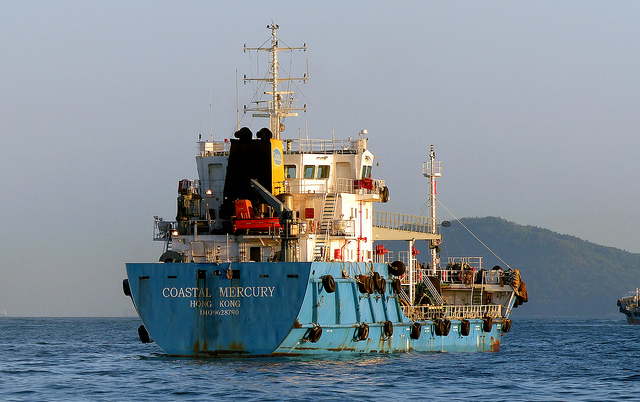tanker: (107, 22, 536, 357)
